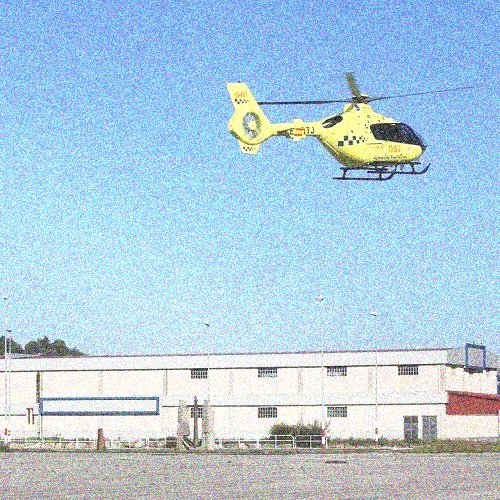Helicopter: (224, 69, 487, 183)
